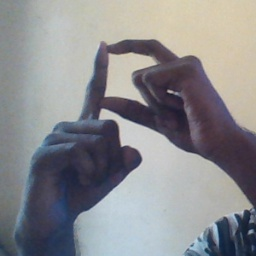D: (64, 30, 202, 174)
